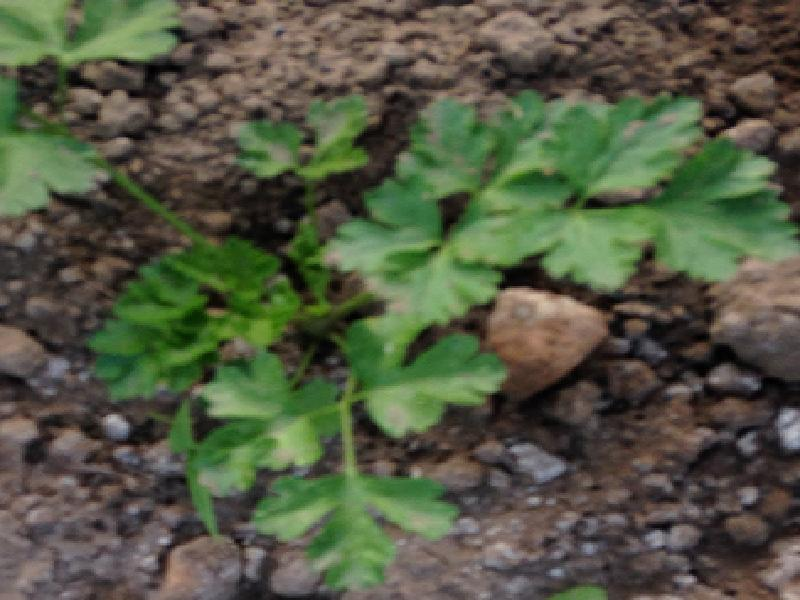radish: (0, 2, 768, 600)
